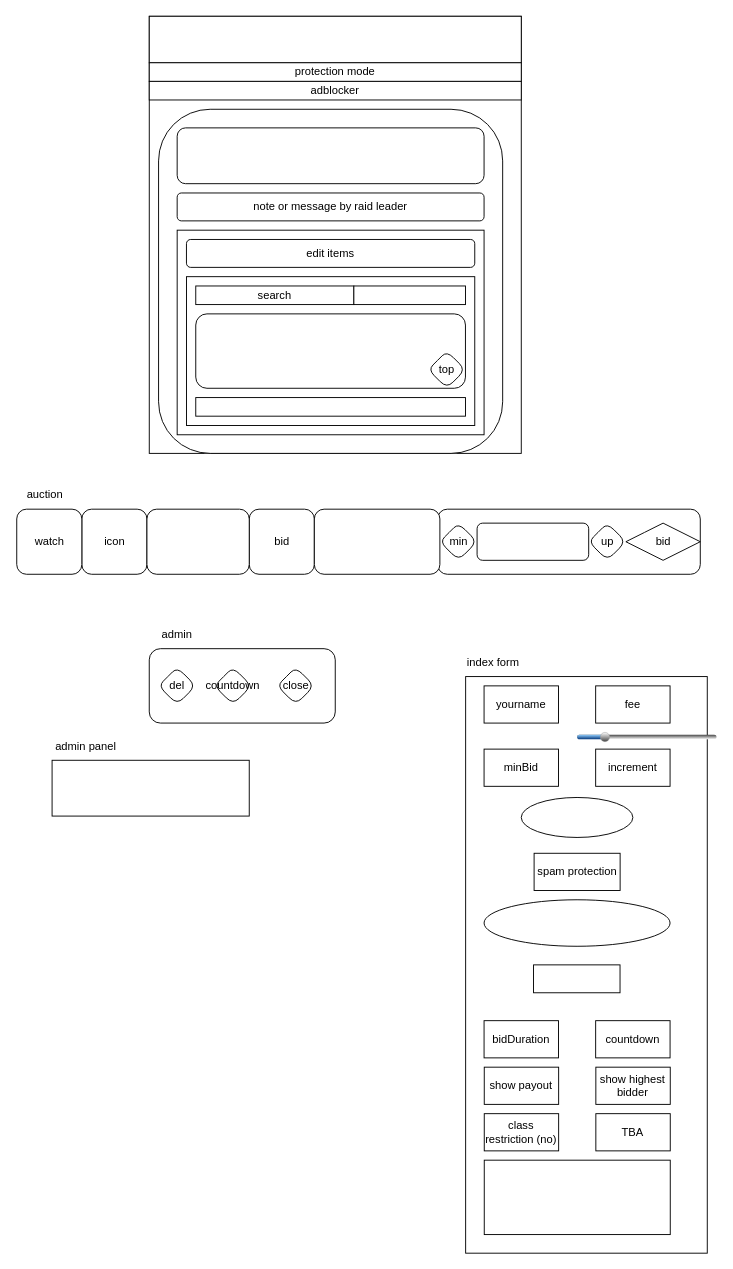
Image size: 733x1269. Some labels were removed from this diagram. Each missing label, with the box of its shape:
[logo] [live updates] about,changelog,contact,stats,resources: (148, 15, 521, 63)
auctions: (195, 313, 465, 388)
bidder: (313, 508, 440, 574)
change session settings, add items (by ID): (51, 759, 249, 816)
create: (483, 899, 670, 946)
Discord protection: (520, 797, 633, 837)
filter: (353, 285, 465, 305)
name,rarity: (146, 508, 249, 574)
note to be shown above: (483, 1159, 670, 1235)
pending bid: (476, 522, 589, 560)
session details: minIncrement, bidDuration, countdown, minBid, allowOS: (176, 127, 484, 184)
show advanced options: (533, 964, 620, 993)
total items, filtered, your bid total, total pot, payout: (195, 397, 465, 416)
